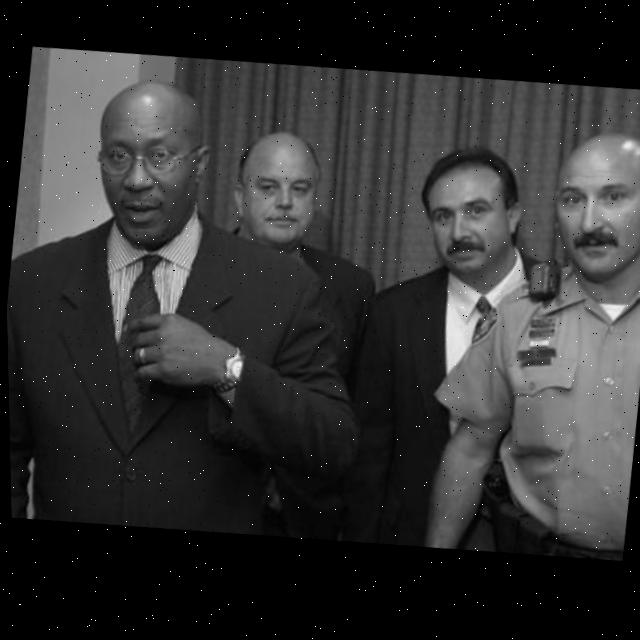face: (76, 74, 221, 258), (405, 147, 532, 287), (542, 135, 640, 294), (232, 120, 324, 246)
